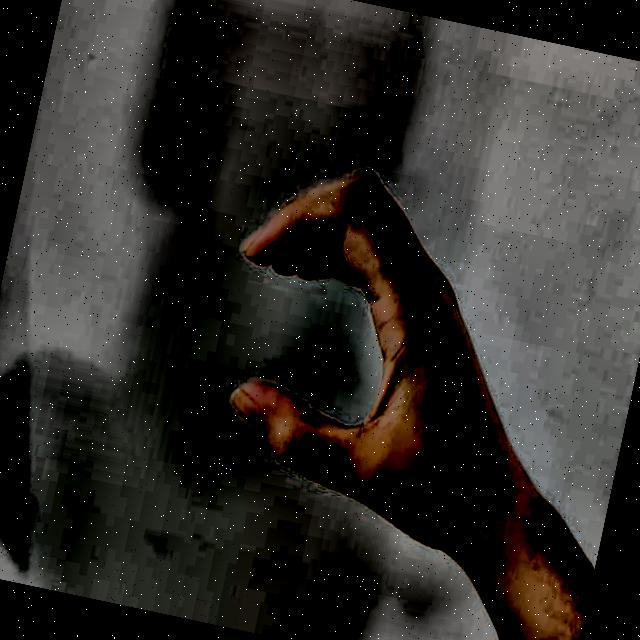A: (148, 123, 542, 588)
